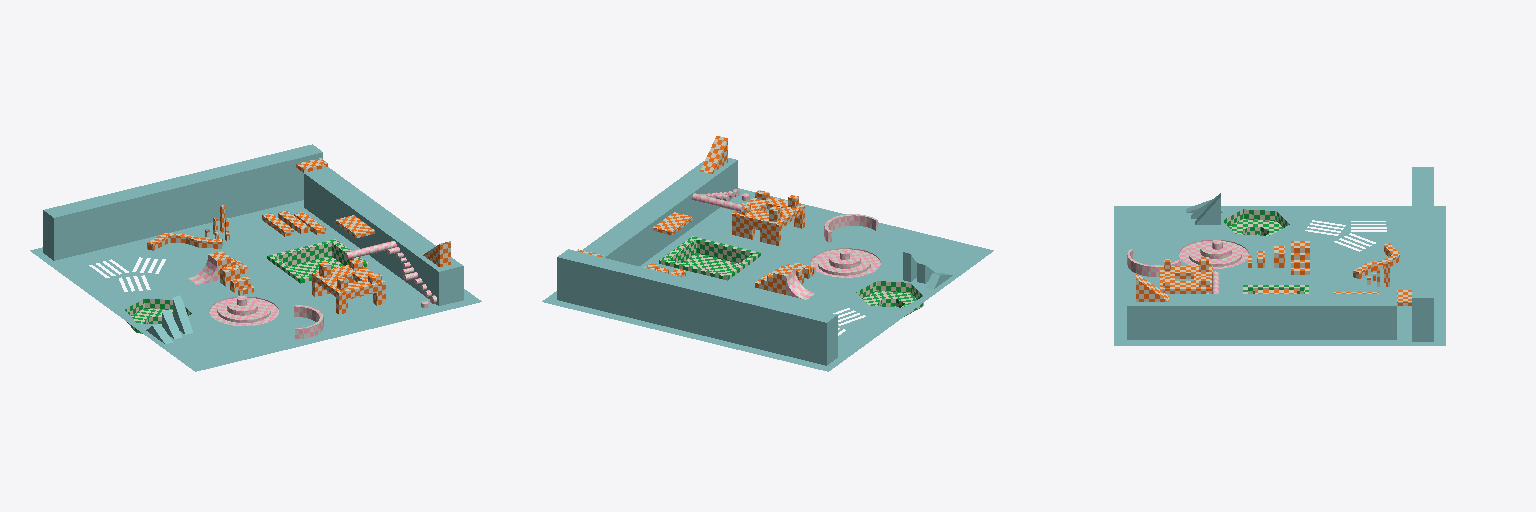
3 renders of one model, left to right at view 1: azimuth 30°, elevation 25°; view 2: azimuth 150°, elevation 25°; view 3: azimuth 270°, elevation 25°, orthographic.
Parts seen in each view (by area): view 1: Mesh1 Model; view 2: Mesh1 Model; view 3: Mesh1 Model.
Boxes of the visible parts, box(x1,y1,x2,y2) form: Mesh1 Model: box(30, 144, 481, 371); Mesh1 Model: box(542, 136, 993, 371); Mesh1 Model: box(1114, 167, 1445, 345).
Bounding box in the file's own units: 320 × 80.4 × 320.
5 materials, 3 textured.